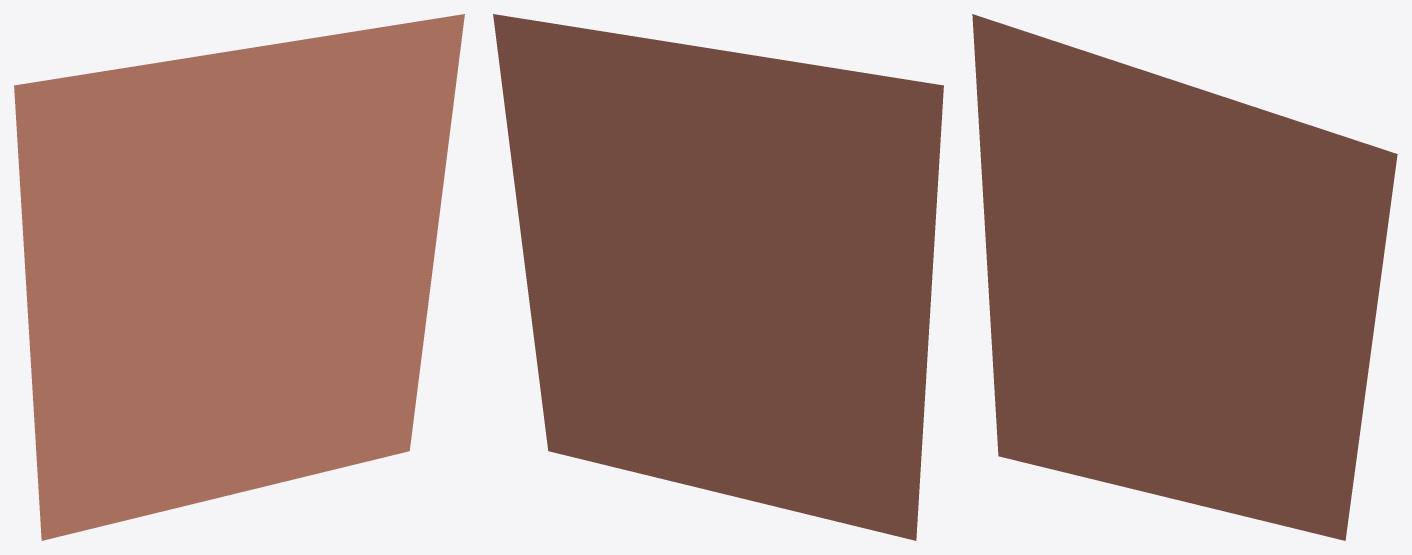
The model's file is morph.gltf.
3 views of the same model, side by side, from view 1: azimuth 30°, elevation 25°; view 2: azimuth 150°, elevation 25°; view 3: azimuth 330°, elevation 25° (orthographic). The views are drawn at different scales.
Visible parts, largest first — view 1: quad; view 2: quad; view 3: quad.
Part boxes in pixels (bbox=[...]): quad: bbox=[14, 14, 464, 540]; quad: bbox=[493, 14, 943, 540]; quad: bbox=[972, 14, 1397, 540].
Bounding box in the file's own units: 2.45 × 2.4 × 0.
